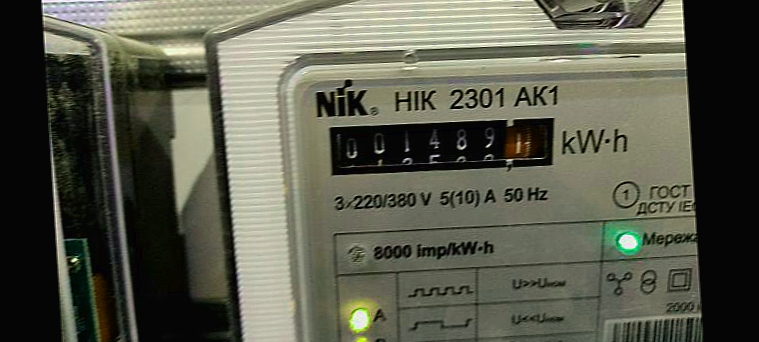0: (368, 125, 386, 151), (341, 131, 358, 157)
1: (397, 122, 413, 152), (509, 122, 523, 152)
4: (424, 122, 442, 149)
8: (450, 120, 469, 148)
9: (479, 120, 495, 146)
screen: (311, 98, 571, 189)
